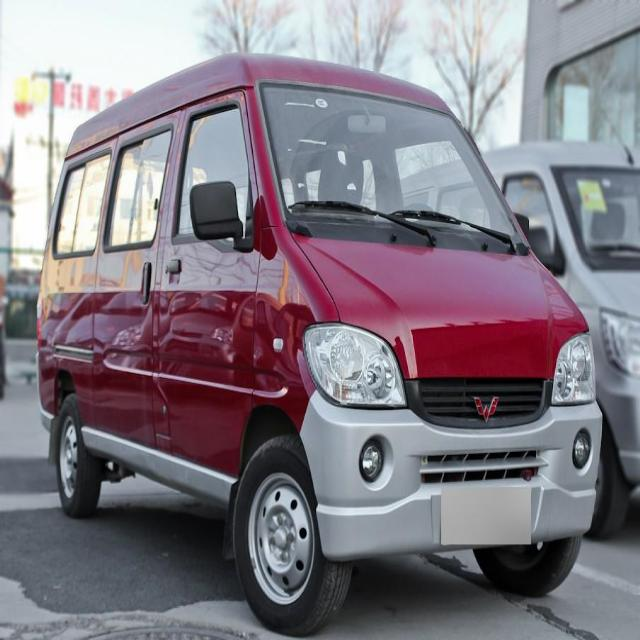back_right_side_light: (36, 296, 44, 347)
door: (90, 110, 182, 444)
front_bumper: (298, 387, 603, 564)
front_glass: (259, 78, 523, 245)
front_left_side_light: (548, 326, 598, 406)
front_left_side_mirror: (514, 212, 532, 242)
front_right_side_door: (154, 81, 264, 481)
front_right_side_light: (299, 319, 408, 411)
front_right_side_mirror: (190, 180, 248, 248)
wheel: (231, 437, 353, 637), (473, 535, 583, 595), (54, 391, 102, 519)
